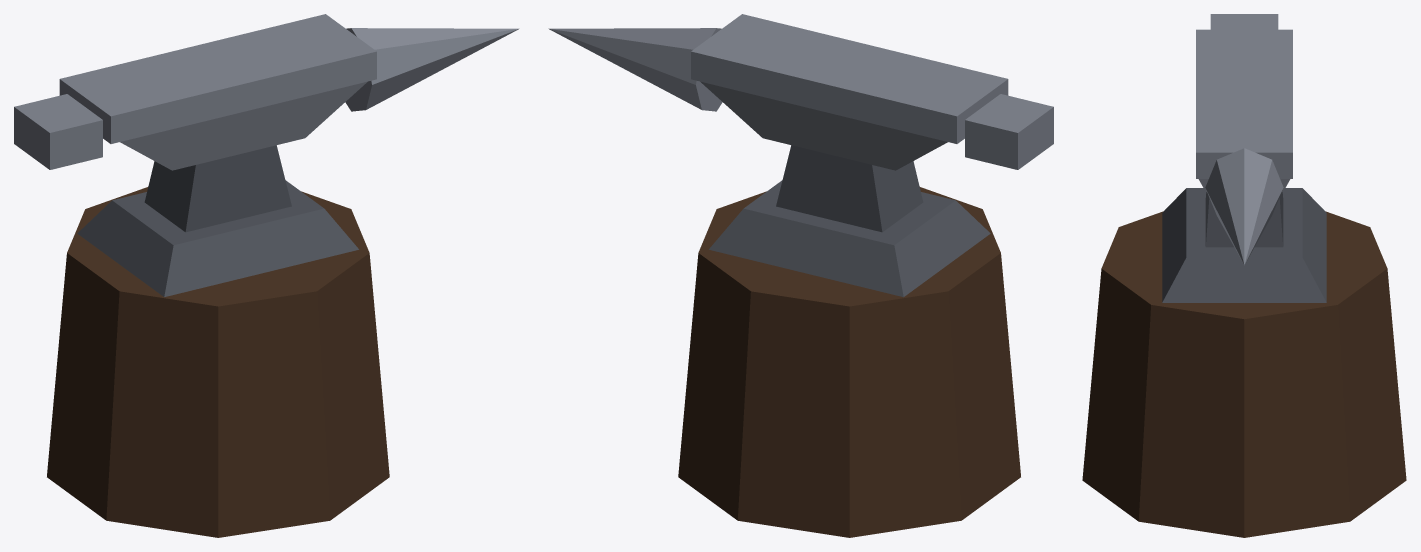
The model's file is anvil.glb.
The picture shows the model from 3 angles, left to right: view 1: azimuth 30°, elevation 25°; view 2: azimuth 150°, elevation 25°; view 3: azimuth 270°, elevation 25°; orthographic projection. The views are drawn at different scales.
Visible parts, largest first — view 1: anvil; view 2: anvil; view 3: anvil.
Part boxes in pixels (x1,y1,x2,y2): anvil: (14, 14, 519, 537); anvil: (548, 14, 1053, 537); anvil: (1082, 14, 1406, 537).
Bounding box in the file's own units: 1.1 × 0.87 × 0.6697.
